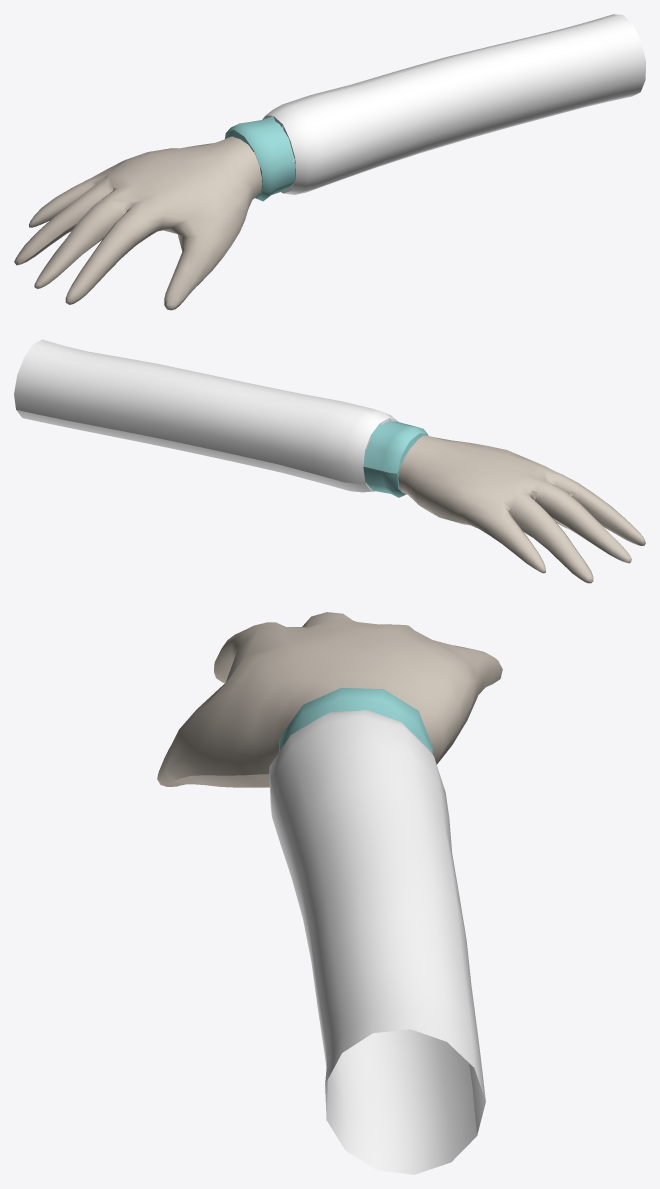
Rendered from CodoDere.obj.
3 renders of one model, top to bottom at view 1: azimuth 30°, elevation 25°; view 2: azimuth 150°, elevation 25°; view 3: azimuth 270°, elevation 25°, orthographic. The views are drawn at different scales.
Parts seen in each view (by area): view 1: CodoDer_Mesh_Body_0.003; view 2: CodoDer_Mesh_Body_0.003; view 3: CodoDer_Mesh_Body_0.003.
Part boxes in pixels (<box>): CodoDer_Mesh_Body_0.003: <box>14,14,645,310</box>; CodoDer_Mesh_Body_0.003: <box>14,339,645,583</box>; CodoDer_Mesh_Body_0.003: <box>157,612,502,1174</box>.
Size of the model in its own units: 0.5336 by 0.1022 by 0.1392.
Materials: 1 (1 with a texture image).
